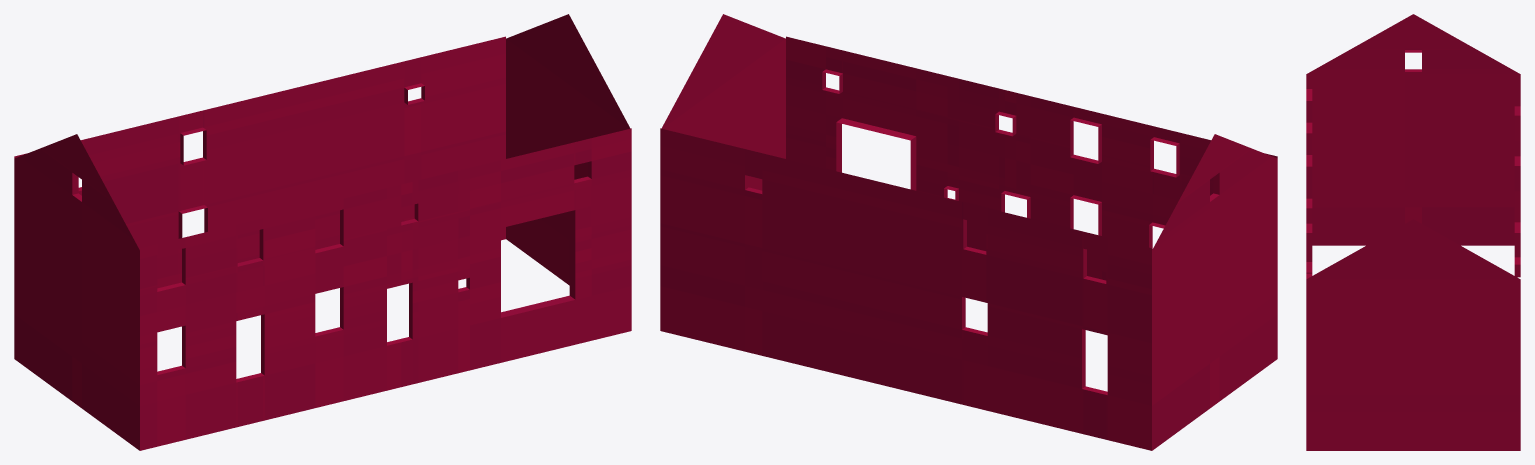
File: SM_Bld_226_Masonry.glb
The picture shows the model from 3 angles, left to right: view 1: azimuth 30°, elevation 25°; view 2: azimuth 150°, elevation 25°; view 3: azimuth 270°, elevation 25°; orthographic projection. The views are drawn at different scales.
Parts seen in each view (by area): view 1: SM_Bld_226_Masonry; view 2: SM_Bld_226_Masonry; view 3: SM_Bld_226_Masonry.
Part boxes in pixels (x1,y1,x2,y2): SM_Bld_226_Masonry: [14, 14, 631, 450]; SM_Bld_226_Masonry: [660, 14, 1277, 450]; SM_Bld_226_Masonry: [1306, 14, 1520, 450].
Size of the model in its own units: 17.19 by 9.06 by 7.6.
